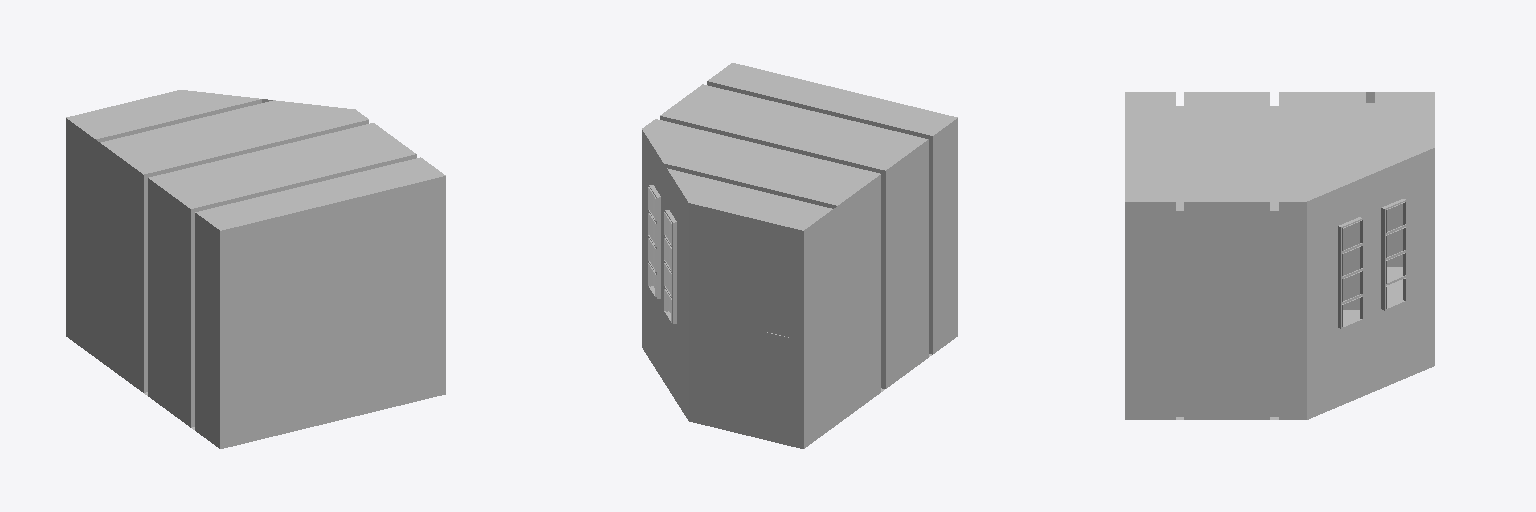
File: whiteroom.obj
The picture shows the model from 3 angles: view 1: azimuth 30°, elevation 25°; view 2: azimuth 150°, elevation 25°; view 3: azimuth 270°, elevation 25°; orthographic projection.
Visible parts, largest first — view 1: group_12_ID312, group_6_ID216, group_5_ID197; view 2: group_12_ID312, group_6_ID216, group_15.001_ID381, group_5_ID197, group_0_ID4, group_14_ID368, group_1_ID19; view 3: group_12_ID312, group_6_ID216, group_5_ID197, group_0_ID4, group_1_ID19, group_7_ID241.
Part boxes in pixels (left/top/right/bottom): group_12_ID312: left=66, top=99, right=445, bottom=448; group_6_ID216: left=66, top=90, right=445, bottom=230; group_5_ID197: left=96, top=99, right=416, bottom=427; group_12_ID312: left=642, top=118, right=957, bottom=448; group_6_ID216: left=642, top=63, right=957, bottom=230; group_15.001_ID381: left=689, top=203, right=803, bottom=448; group_5_ID197: left=660, top=81, right=932, bottom=388; group_0_ID4: left=649, top=180, right=677, bottom=327; group_14_ID368: left=764, top=332, right=790, bottom=402; group_1_ID19: left=648, top=186, right=672, bottom=323; group_12_ID312: left=1125, top=92, right=1434, bottom=419; group_6_ID216: left=1125, top=92, right=1434, bottom=201; group_5_ID197: left=1176, top=103, right=1374, bottom=416; group_0_ID4: left=1336, top=194, right=1405, bottom=331; group_1_ID19: left=1341, top=200, right=1405, bottom=328; group_7_ID241: left=1359, top=267, right=1402, bottom=318.
Size of the model in its own units: 7.76 by 7.18 by 9.21.